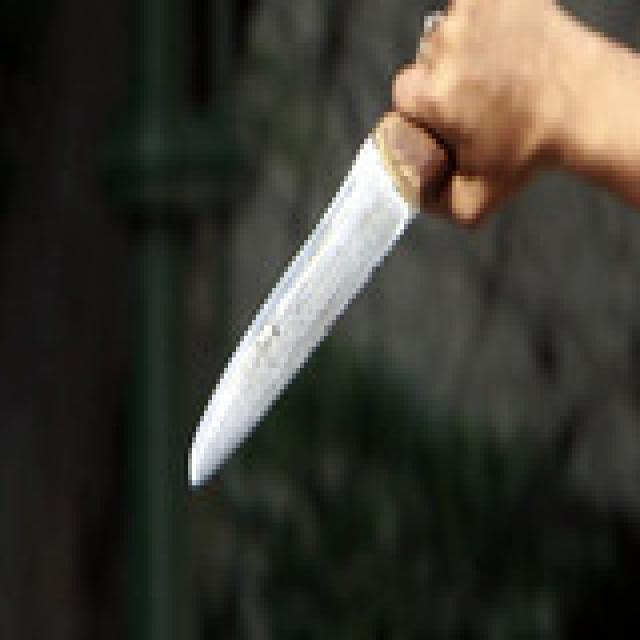Knife: (170, 122, 462, 498)
